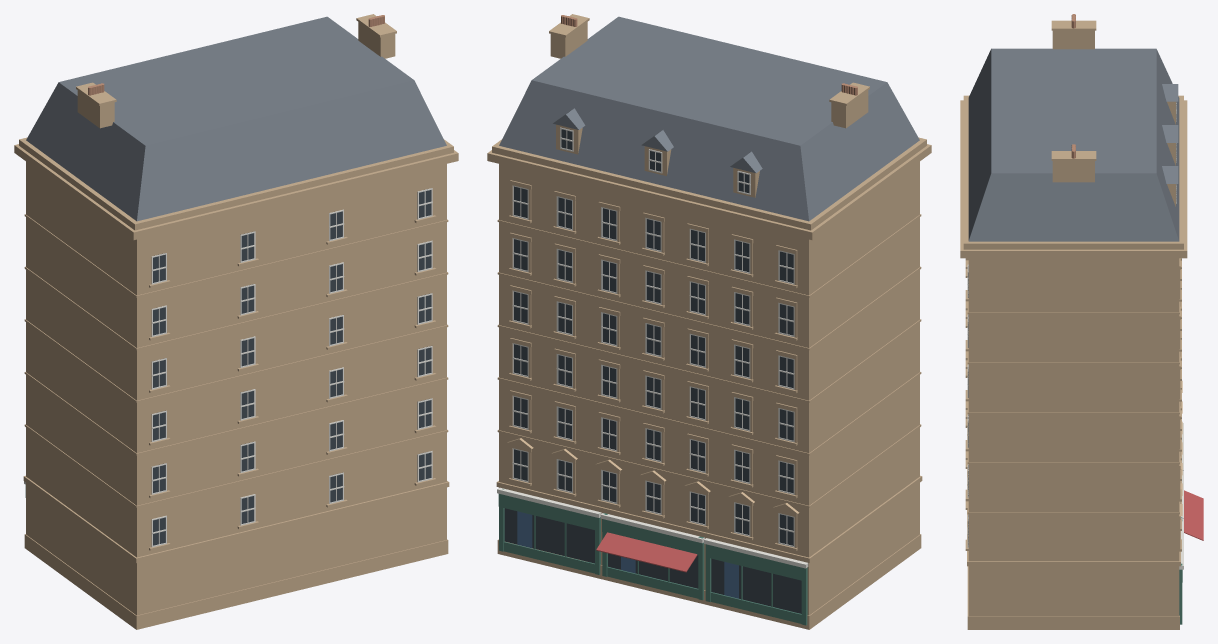
Rendered from classical7_shops.glb.
3 renders of one model, left to right at view 1: azimuth 30°, elevation 25°; view 2: azimuth 150°, elevation 25°; view 3: azimuth 270°, elevation 25°, orthographic. The views are drawn at different scales.
Visible parts, largest first — view 1: classical7_shops; view 2: classical7_shops; view 3: classical7_shops.
Boxes of the visible parts, x1,y1,x2,y2 form: classical7_shops: (14,14,458,629); classical7_shops: (487,14,931,629); classical7_shops: (960,14,1203,629).
Bounding box in the file's own units: 22 × 32.32 × 15.
